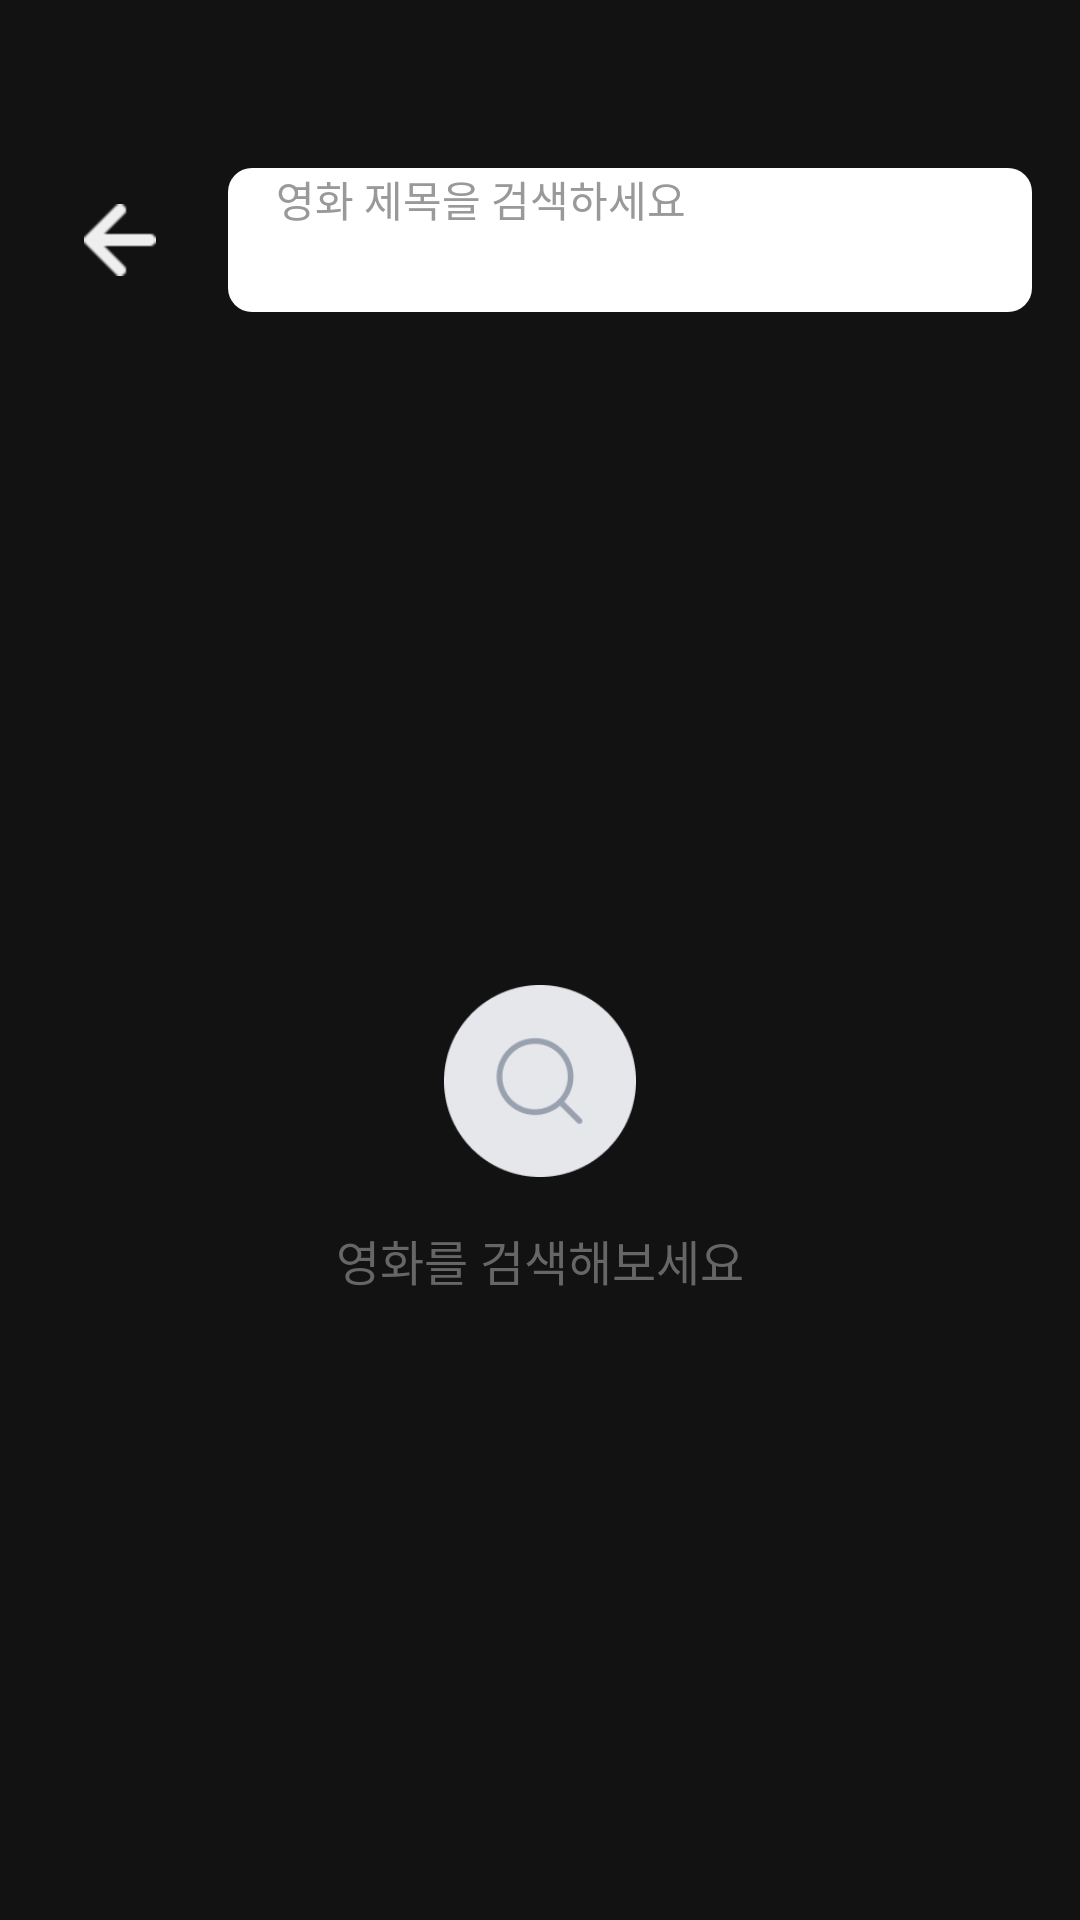

Where to tap for icons on this 1080*1920 app screen, as point (x, y):
search with circle: point (540, 1081)
뒤로 가기: point (120, 240)
